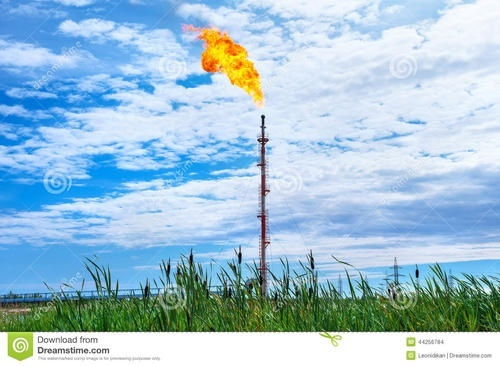fire: (188, 19, 268, 103)
